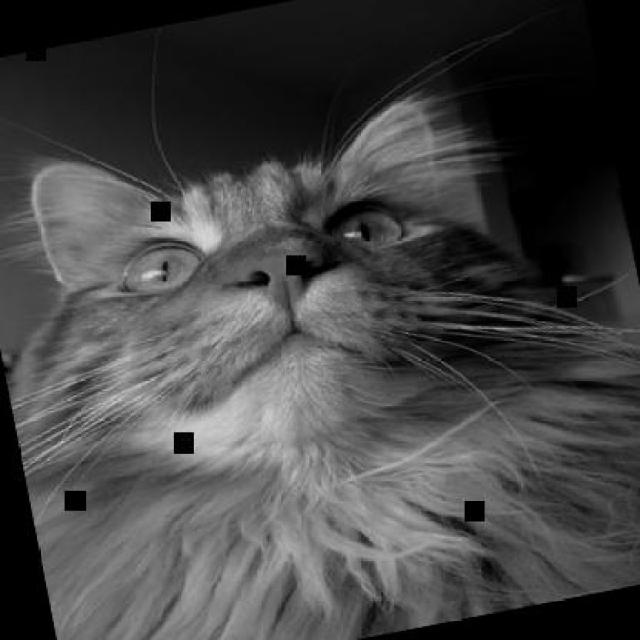cat: (0, 55, 638, 638)
